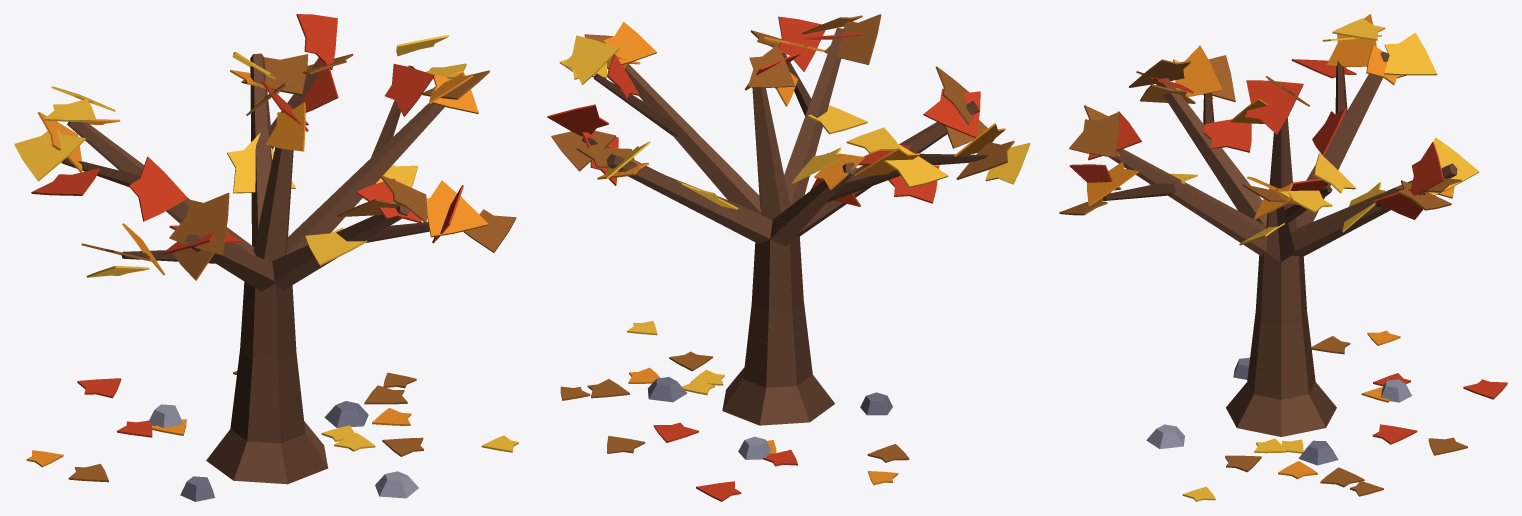
The model's file is autumn-tree-2x2.glb.
3 renders of one model, left to right at view 1: azimuth 30°, elevation 25°; view 2: azimuth 150°, elevation 25°; view 3: azimuth 270°, elevation 25°, orthographic. The views are drawn at different scales.
Parts seen in each view (by area): view 1: autumn-tree-2x2; view 2: autumn-tree-2x2; view 3: autumn-tree-2x2.
Part boxes in pixels (x1,y1,x2,y2): autumn-tree-2x2: [14, 14, 518, 501]; autumn-tree-2x2: [547, 14, 1030, 501]; autumn-tree-2x2: [1059, 14, 1507, 501].
Bounding box in the file's own units: 1.8 × 1.5 × 1.78.
Materials: 1 (1 with a texture image).
